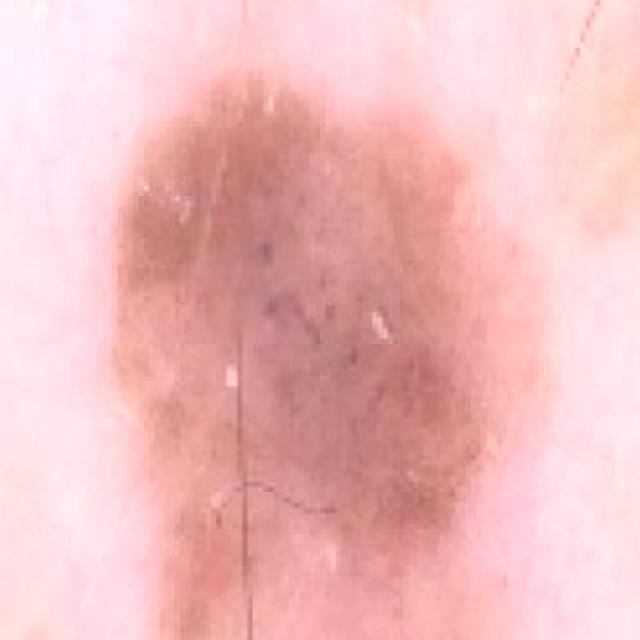MEL: (129, 63, 593, 640)
